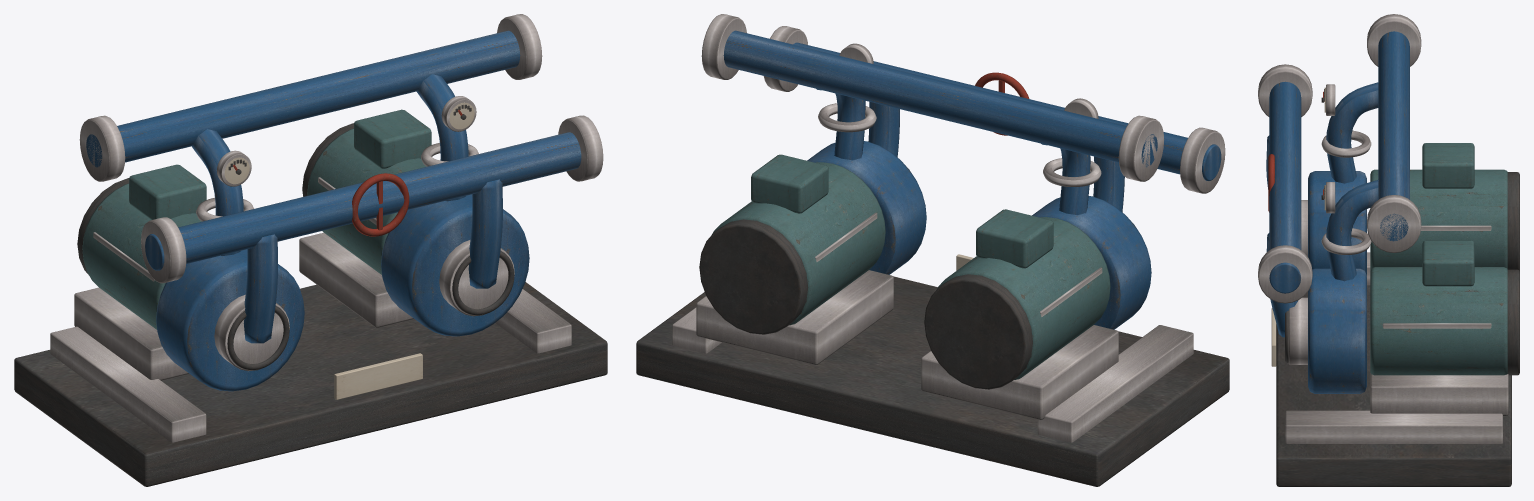
Rendered from SM_FacilityRooms_PumpSkid.fbx.
3 views of the same model, side by side, from view 1: azimuth 30°, elevation 25°; view 2: azimuth 150°, elevation 25°; view 3: azimuth 270°, elevation 25° (orthographic). The views are drawn at different scales.
Parts seen in each view (by area): view 1: SM_FacilityRooms_PumpSkid; view 2: SM_FacilityRooms_PumpSkid; view 3: SM_FacilityRooms_PumpSkid.
Boxes of the visible parts, x1=… form: SM_FacilityRooms_PumpSkid: x1=14, y1=14, x2=607, y2=486; SM_FacilityRooms_PumpSkid: x1=636, y1=14, x2=1229, y2=486; SM_FacilityRooms_PumpSkid: x1=1258, y1=14, x2=1519, y2=486.
Size of what is drawn, in the model's own units: 200 by 110 by 130.
